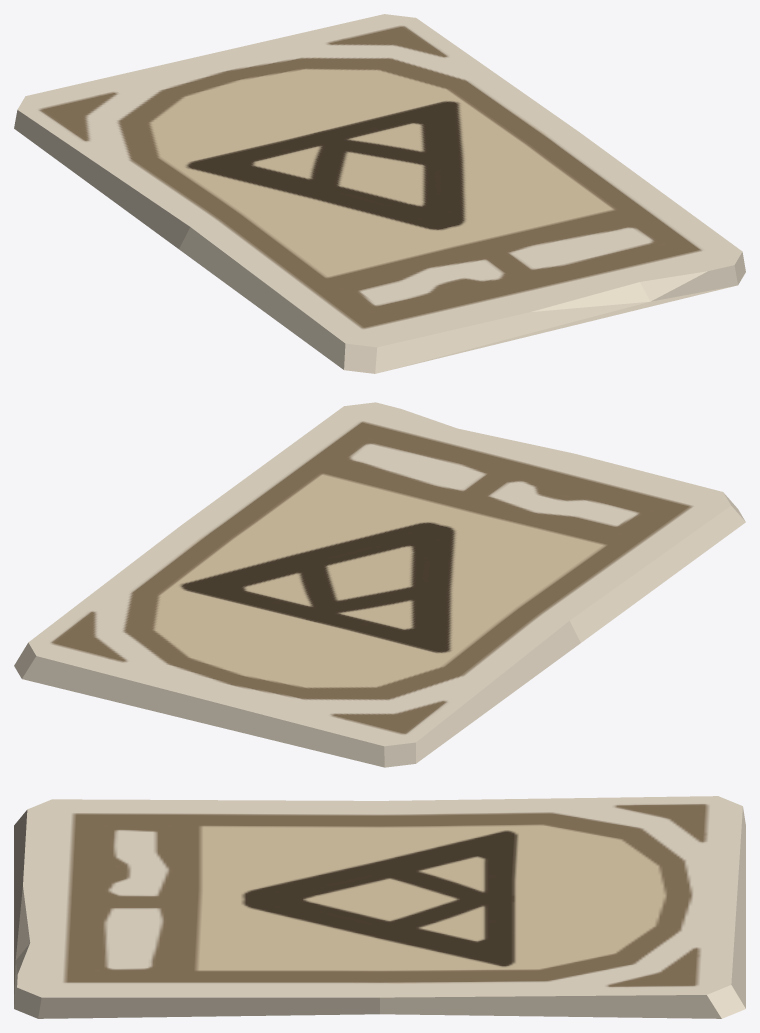
The model's file is SM_Prop_Tarot_Card_14.fbx.
3 renders of one model, top to bottom at view 1: azimuth 30°, elevation 25°; view 2: azimuth 150°, elevation 25°; view 3: azimuth 270°, elevation 25°, orthographic. The views are drawn at different scales.
Parts seen in each view (by area): view 1: SM_Prop_Tarot_Card_14; view 2: SM_Prop_Tarot_Card_14; view 3: SM_Prop_Tarot_Card_14.
Boxes of the visible parts, left/top/right/bottom form: SM_Prop_Tarot_Card_14: left=14, top=14, right=745, bottom=373; SM_Prop_Tarot_Card_14: left=14, top=402, right=745, bottom=767; SM_Prop_Tarot_Card_14: left=14, top=796, right=745, bottom=1018.
Bounding box in the file's own units: 13.22 × 0.62 × 20.12.
